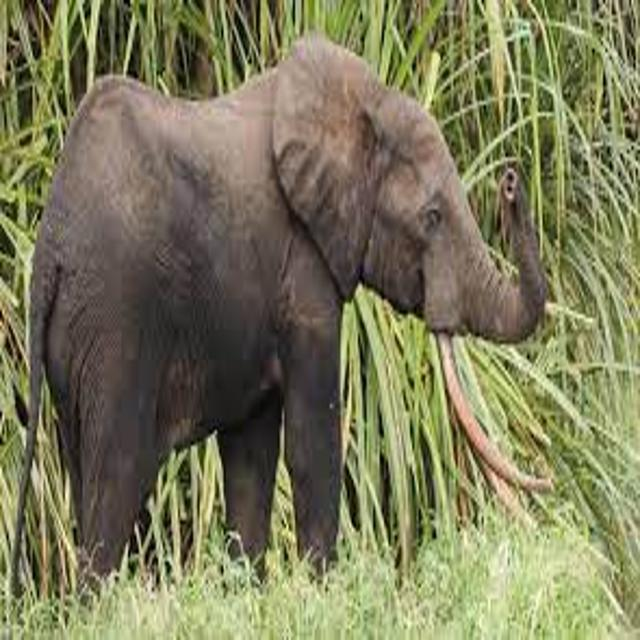elephant: (1, 16, 562, 620)
